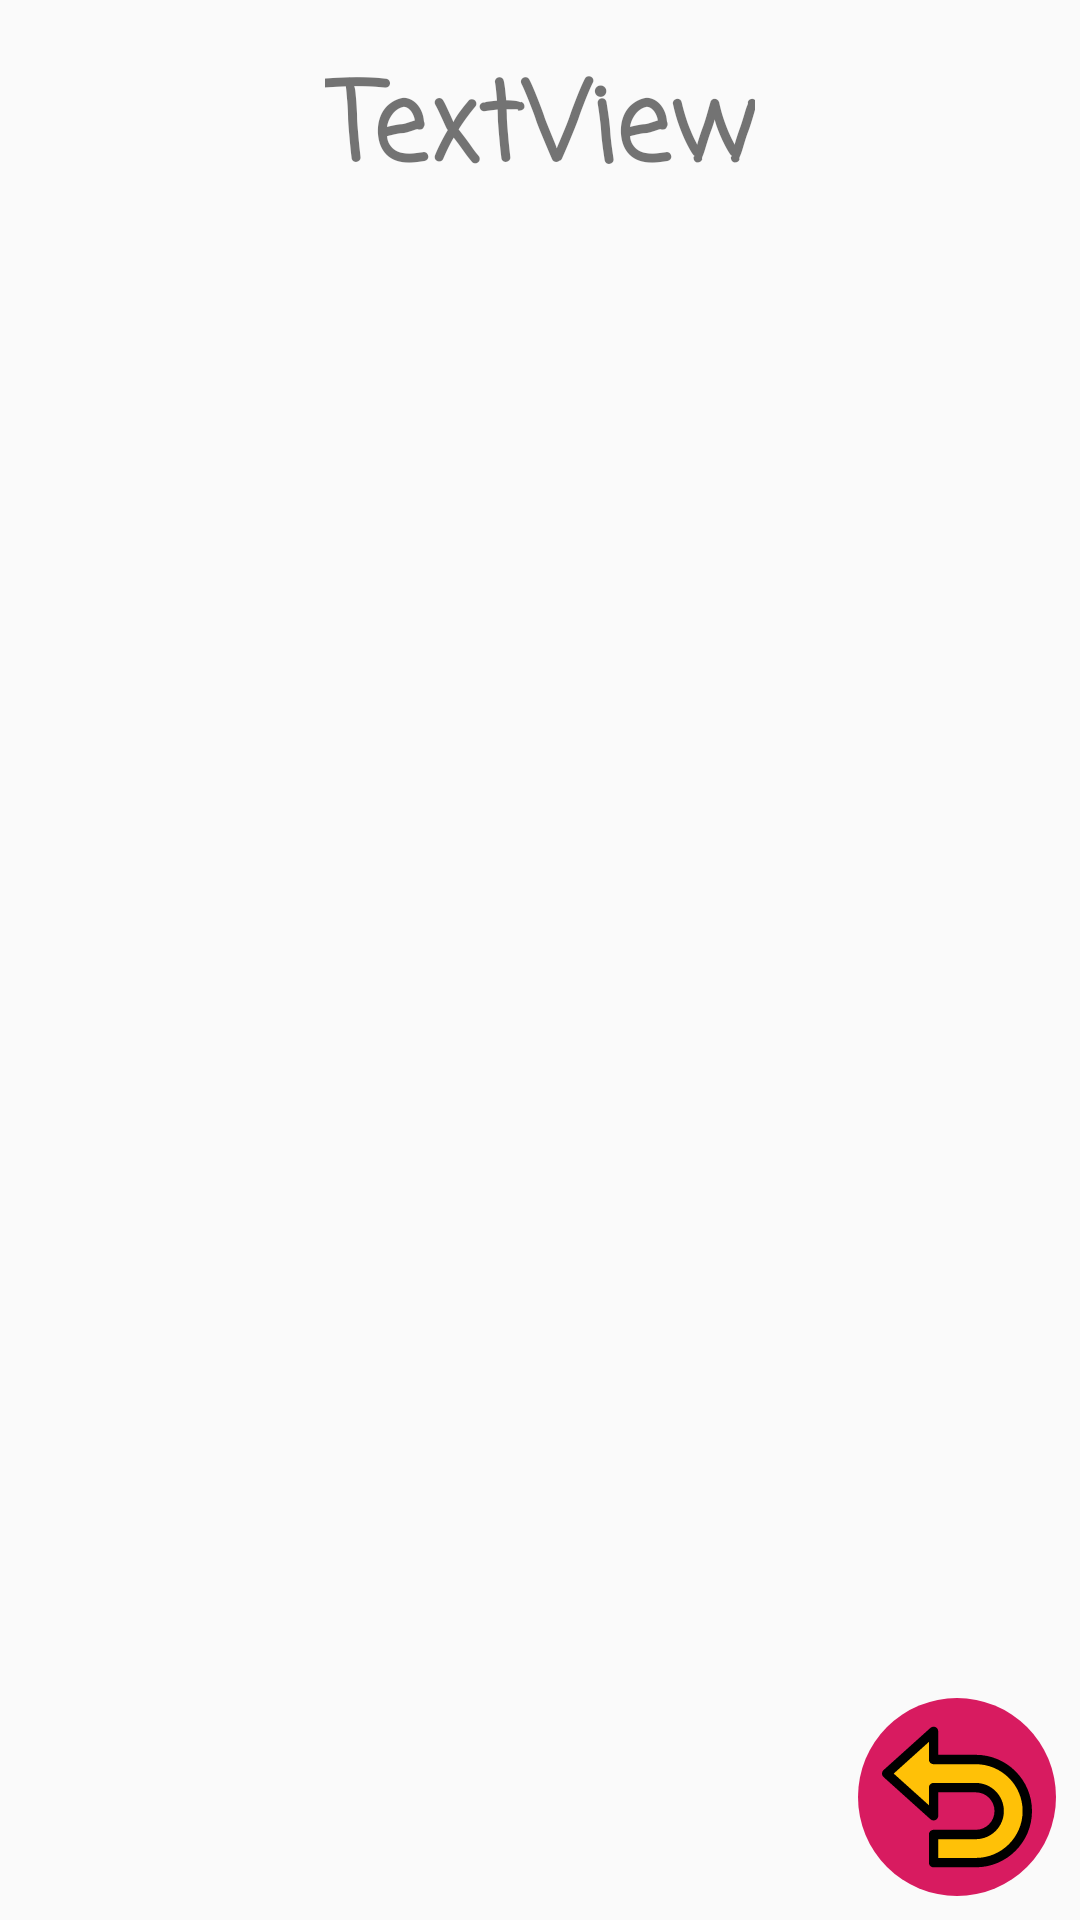

Named icons in this screenshot (1080 x 1920) and their centers, [x,y]:
atras: [957,1797]
